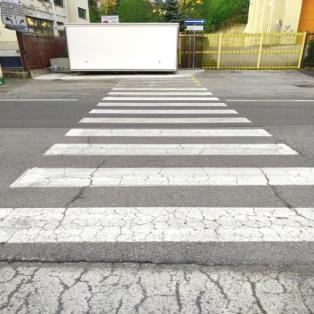Paso de Cebra: (0, 165, 314, 249), (37, 126, 301, 159), (86, 101, 240, 117)
